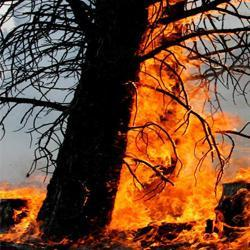fire: (136, 41, 197, 169), (112, 174, 214, 228)
